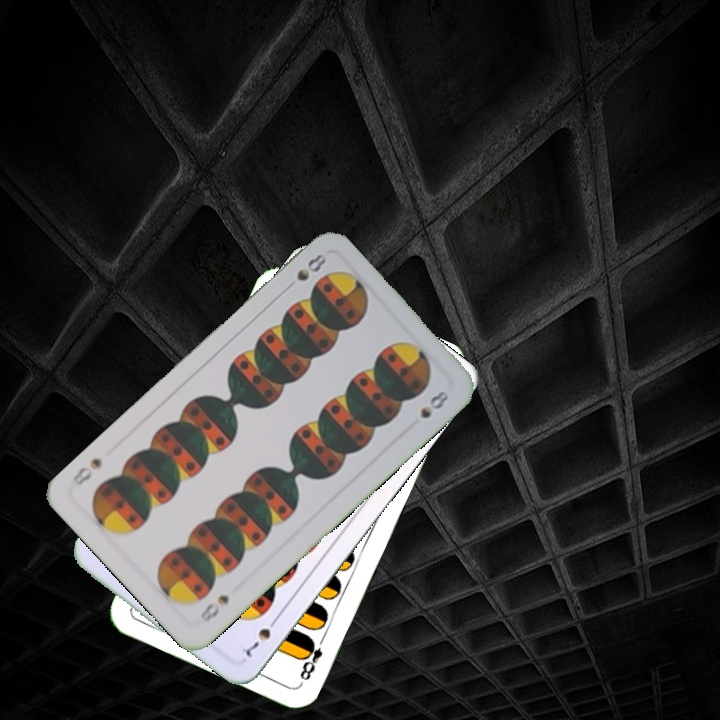E8: (296, 631, 329, 683)
S7: (237, 612, 282, 659)
S8: (292, 249, 330, 284), (196, 590, 232, 625)
